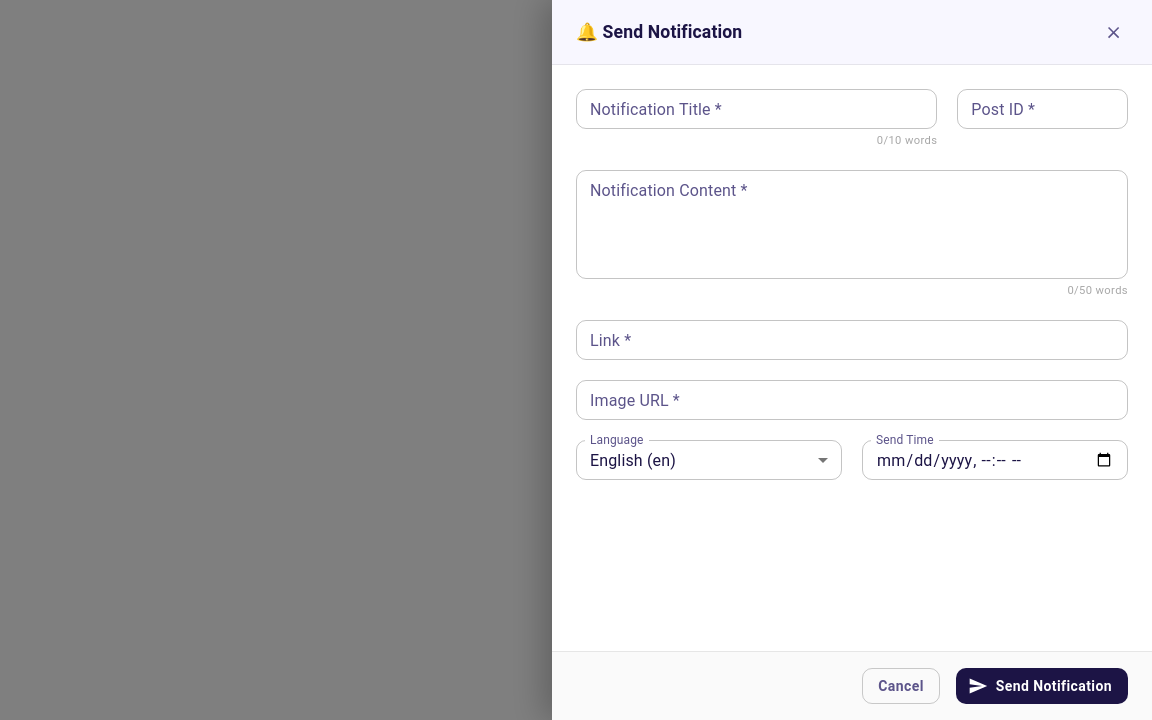
Test case: SendNotificationForm › shows mandatory validation errors when fields are empty
Click the button "Send Notification". click: (1042, 686)
box: [956,668,1128,704]
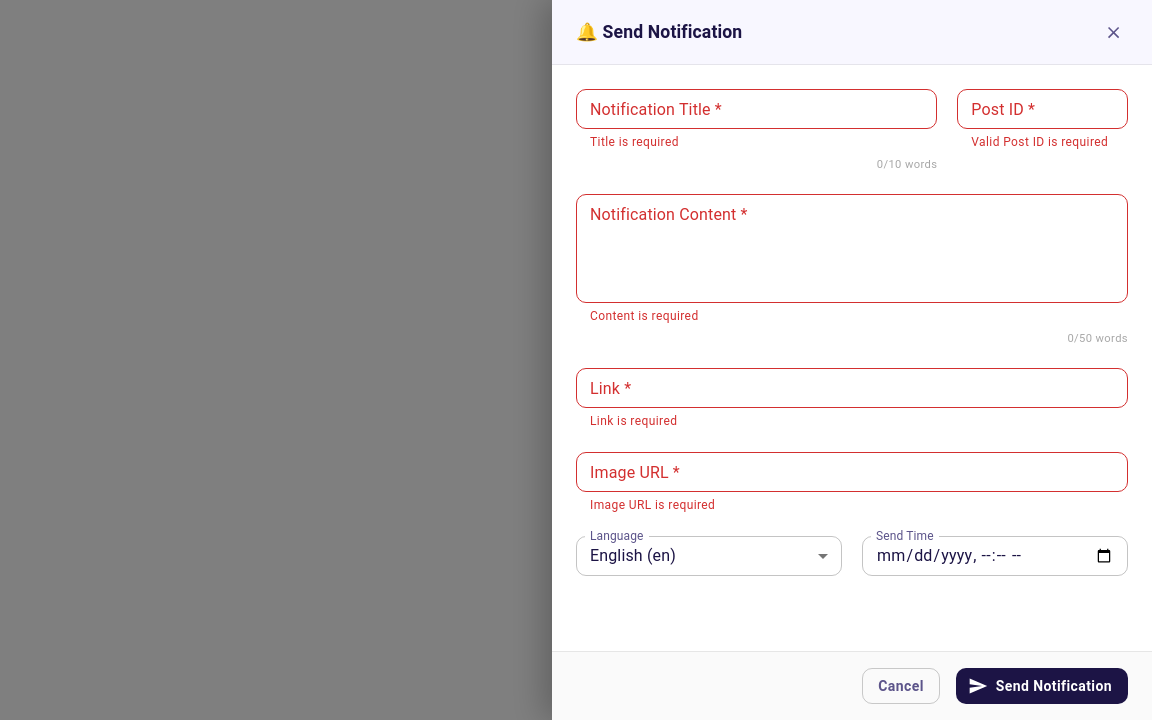
Expected: the text "Title is required" is shown, [590,135,679,149]
Expected: the text "Content is required" is shown, [590,309,698,323]
Expected: the text "Valid Post ID is required" is shown, [971,133,1114,153]
